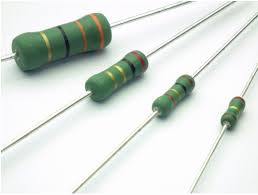resistor: (6, 9, 118, 75), (84, 44, 162, 105), (143, 73, 209, 131), (216, 83, 249, 144)
